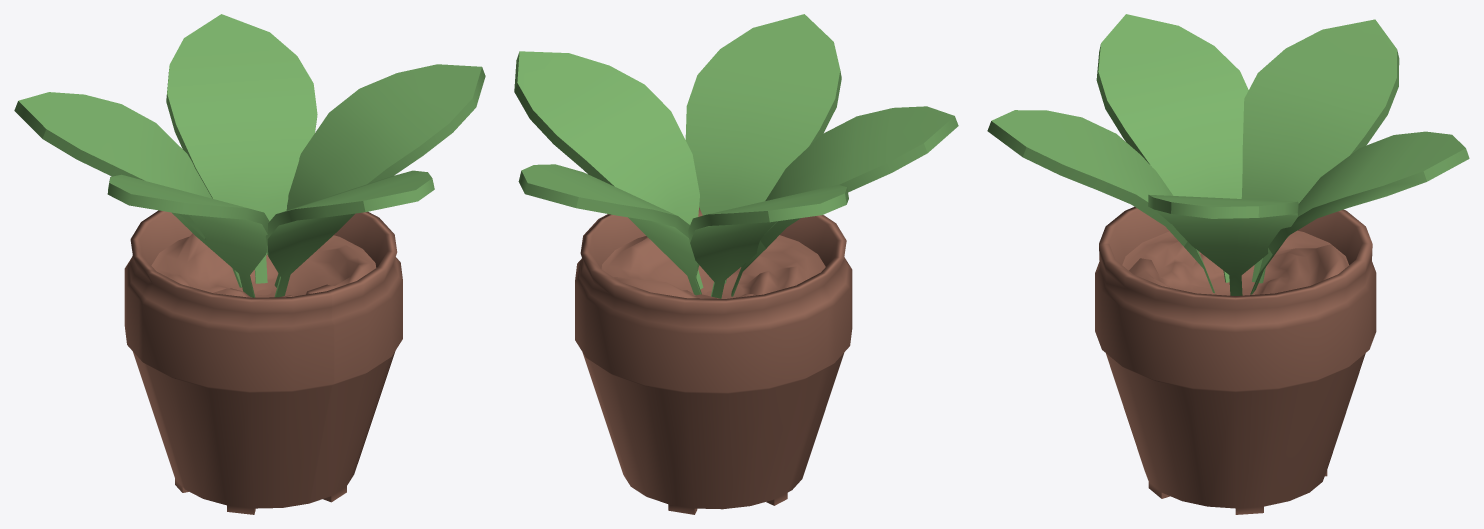
The model's file is pot.fbx.
3 renders of one model, left to right at view 1: azimuth 30°, elevation 25°; view 2: azimuth 150°, elevation 25°; view 3: azimuth 270°, elevation 25°, orthographic.
Visible parts, largest first — view 1: polySurface1, pCube1, pCube2, pCube5, pCube3, pCube4; view 2: polySurface1, pCube3, pCube2, pCube4, pCube5, pCube1; view 3: polySurface1, pCube5, pCube4, pCube3, pCube1, pCube2.
Boxes of the visible parts, left/top/right/bottom form: polySurface1: left=124, top=210, right=402, bottom=514; pCube1: left=166, top=14, right=317, bottom=283; pCube2: left=274, top=64, right=485, bottom=287; pCube5: left=14, top=92, right=241, bottom=287; pCube3: left=265, top=170, right=434, bottom=297; pCube4: left=107, top=174, right=269, bottom=297; polySurface1: left=575, top=207, right=852, bottom=514; pCube3: left=685, top=14, right=841, bottom=283; pCube2: left=514, top=51, right=703, bottom=289; pCube4: left=731, top=106, right=958, bottom=296; pCube5: left=688, top=184, right=848, bottom=298; pCube1: left=518, top=164, right=701, bottom=295; polySurface1: left=1095, top=206, right=1376, bottom=514; pCube5: left=1241, top=19, right=1399, bottom=283; pCube4: left=1096, top=14, right=1248, bottom=282; pCube3: left=987, top=110, right=1214, bottom=293; pCube1: left=1250, top=131, right=1469, bottom=294; pCube2: left=1148, top=194, right=1298, bottom=295.
Size of the model in its own units: 2.13 by 1.88 by 2.22.
